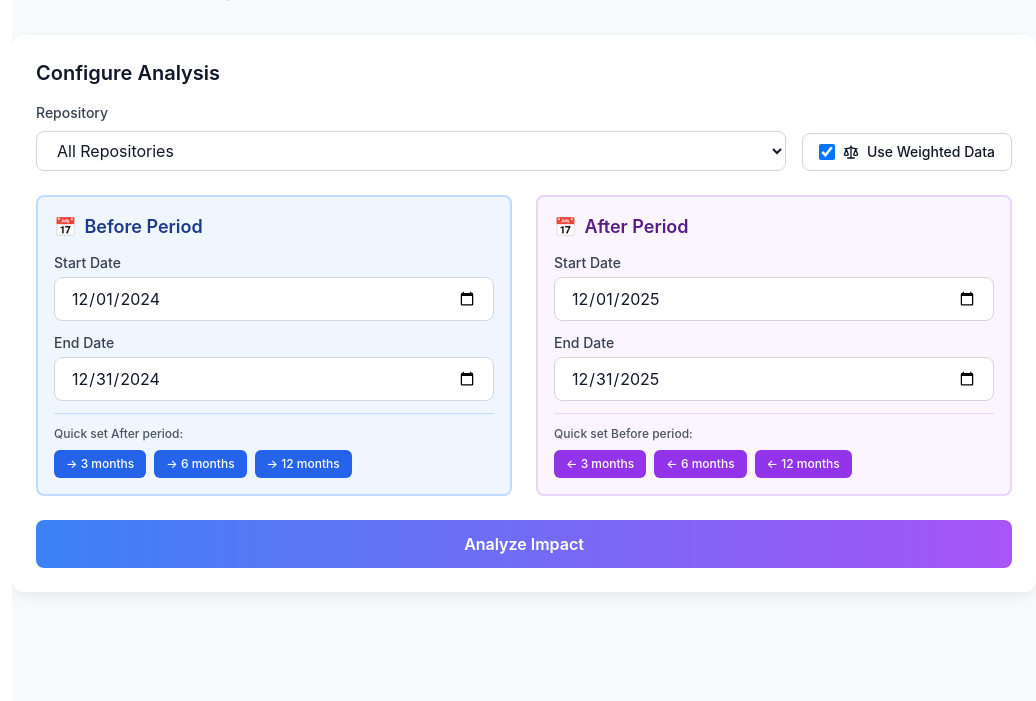
Scenario: BeforeAfter › Weighted Data Toggle › should show weighted labels when toggle is checked and data is displayed
# Click Analyze button
Click the button "Analyze Impact": (524, 544) [36,520,1012,568]
(page scrolled)
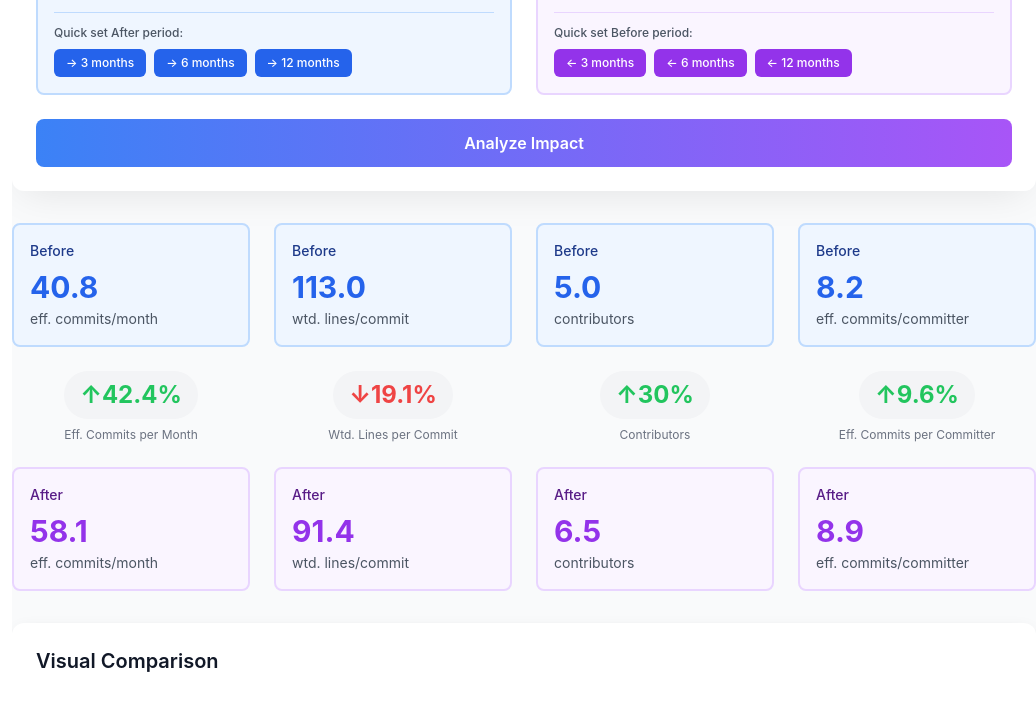
Check: the text "eff. commits/month" below "40.8" is shown, box [30,310,158,327]
